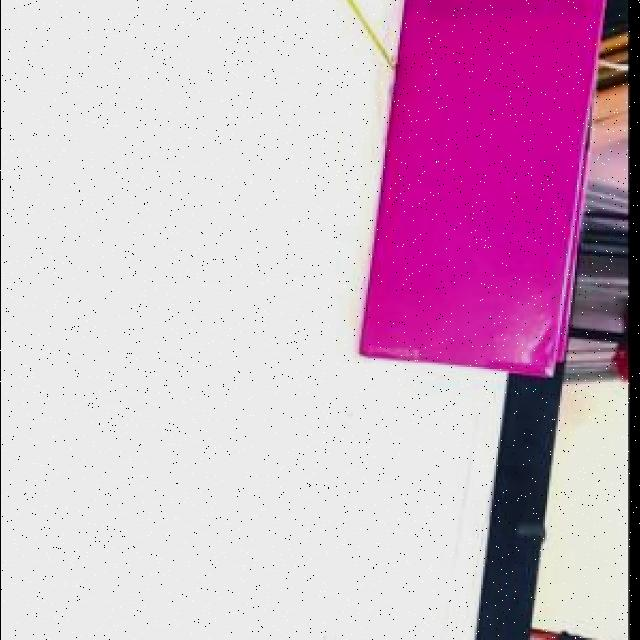xparking: (403, 0, 563, 369)
